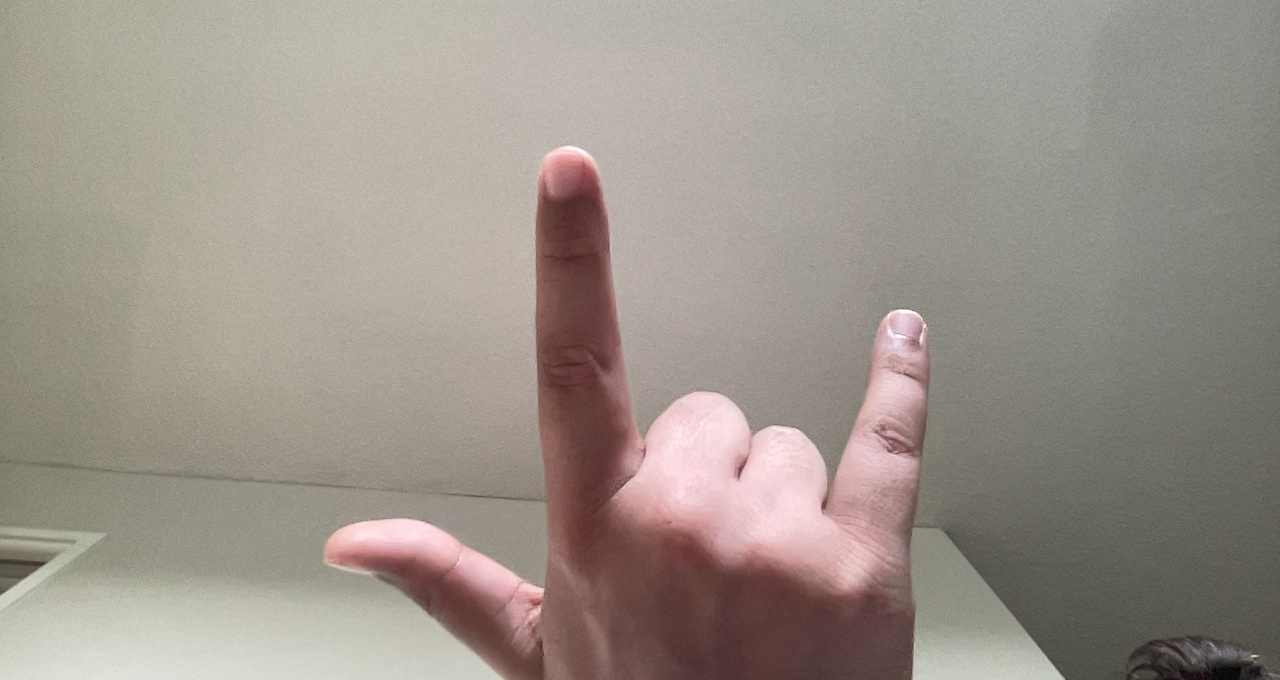rockon sign: (302, 127, 954, 680)
